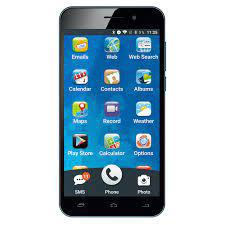Smartphone: (63, 7, 164, 216)
